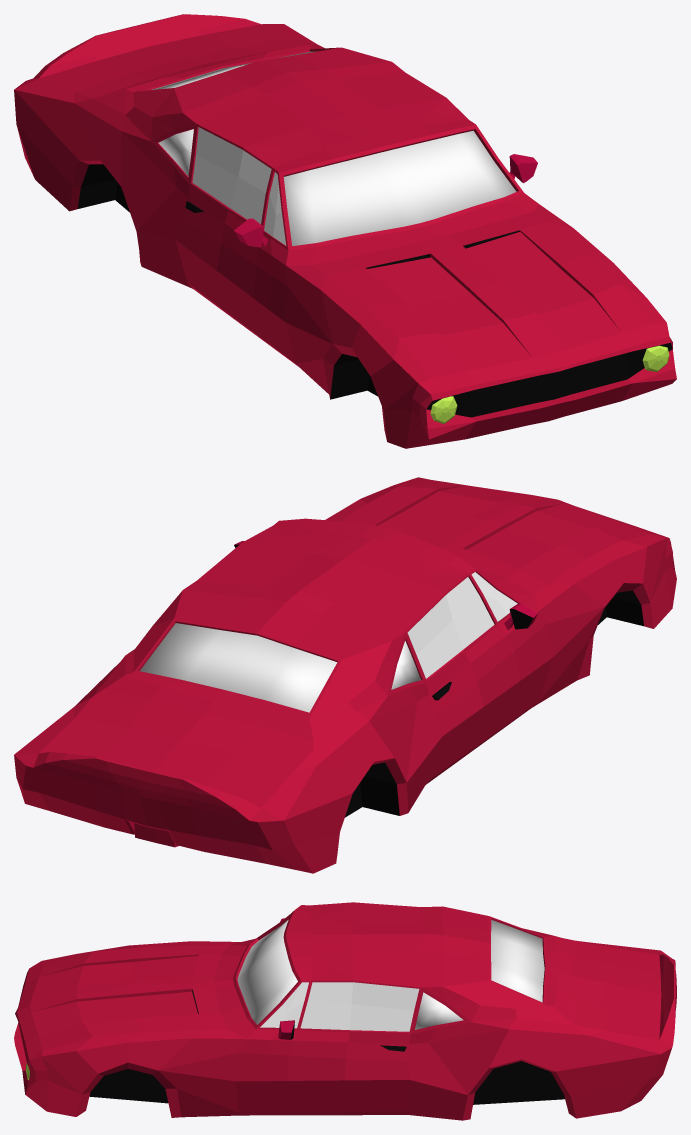
Rendered from Camero.glb.
3 views of the same model, one above another, from view 1: azimuth 30°, elevation 25°; view 2: azimuth 150°, elevation 25°; view 3: azimuth 270°, elevation 25° (orthographic). The views are drawn at different scales.
Parts seen in each view (by area): view 1: Chassis, Windshield, Door.L, Window.R, RearWindow.R; view 2: Chassis, Door.L, Back Window, Window.R, RearWindow.R; view 3: Chassis, Door.R, Window.L, Windshield, Back Window, RearWindow.L.
Part boxes in pixels (<box>): Chassis: <box>14,14,676,448</box>; Windshield: <box>283,130,516,245</box>; Door.L: <box>175,168,295,363</box>; Window.R: <box>192,127,271,224</box>; RearWindow.R: <box>158,129,193,176</box>; Chassis: <box>14,477,676,873</box>; Door.L: <box>426,572,552,778</box>; Back Window: <box>140,623,337,712</box>; Window.R: <box>407,577,494,678</box>; RearWindow.R: <box>391,641,420,689</box>; Chassis: <box>14,902,676,1120</box>; Door.R: <box>236,981,410,1112</box>; Window.L: <box>300,982,419,1031</box>; Windshield: <box>237,919,297,1024</box>; Back Window: <box>491,920,544,1002</box>; RearWindow.L: <box>415,992,463,1029</box>.
Bounding box in the file's own units: 3.81 × 2.11 × 9.28.
1 material, 1 textured.
